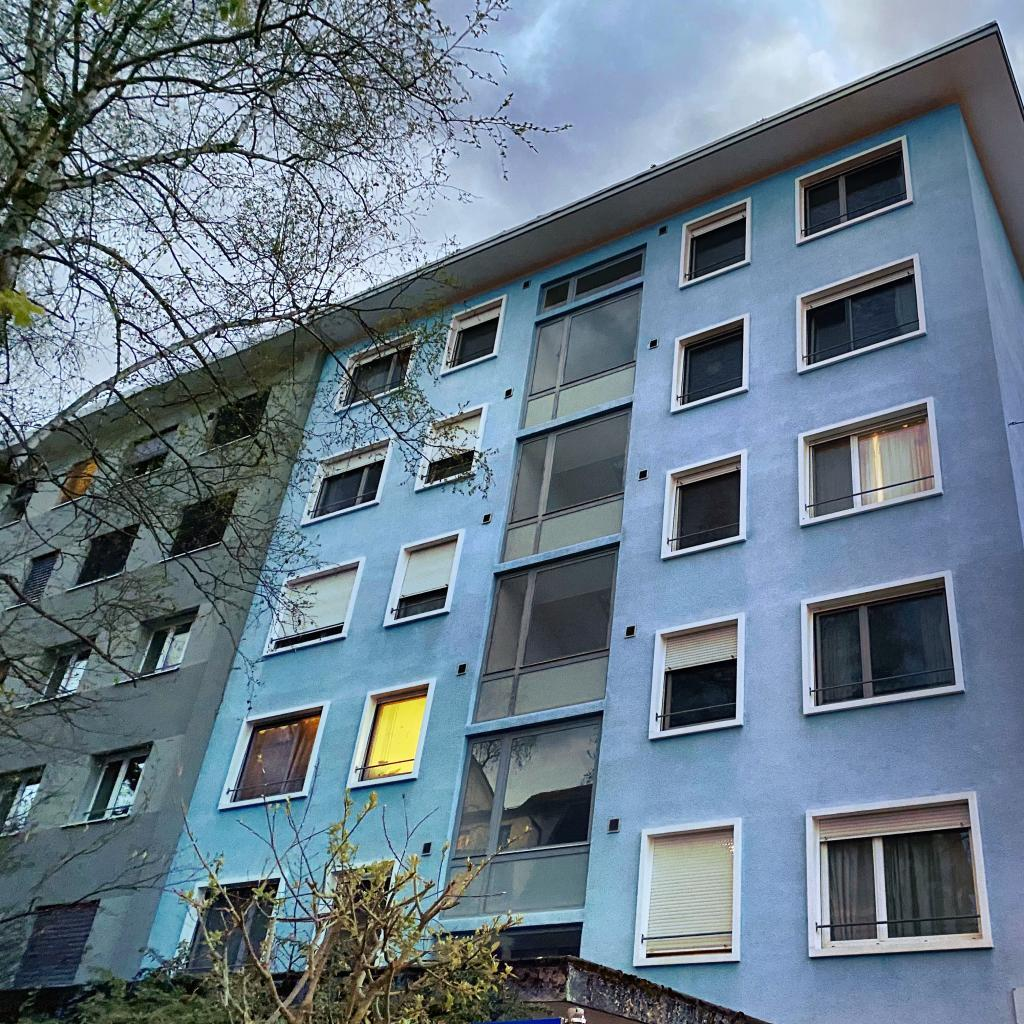balcony-fence: (808, 665, 957, 708), (804, 472, 937, 520), (815, 913, 984, 949), (802, 317, 921, 368), (800, 189, 908, 241), (641, 929, 734, 960), (655, 701, 738, 732), (667, 520, 740, 554), (269, 621, 346, 652), (306, 489, 379, 521), (225, 776, 307, 803), (676, 374, 743, 407), (338, 377, 406, 408), (683, 251, 746, 284), (389, 594, 448, 623), (353, 758, 416, 783), (445, 343, 495, 370), (421, 460, 474, 485), (81, 804, 132, 821)
facade: (0, 19, 1024, 1024)
non-building-infrastructure: (0, 953, 775, 1024)
window: (440, 716, 602, 918), (472, 548, 618, 722), (817, 801, 983, 948), (499, 408, 631, 562), (811, 584, 955, 706), (522, 287, 642, 430), (808, 409, 936, 518), (645, 826, 734, 959), (804, 265, 920, 366), (803, 147, 906, 237), (179, 883, 279, 973), (228, 711, 322, 803), (660, 623, 737, 731), (271, 565, 359, 651), (12, 901, 99, 987), (540, 248, 646, 313), (357, 688, 428, 782), (325, 870, 392, 967), (308, 443, 389, 520), (671, 463, 740, 551), (393, 537, 458, 621), (82, 746, 153, 821), (680, 325, 743, 406), (344, 337, 415, 406), (168, 492, 238, 558), (687, 209, 745, 282), (424, 412, 482, 484), (75, 524, 139, 585), (208, 389, 270, 449), (136, 616, 197, 676), (449, 304, 501, 368), (117, 426, 177, 481), (38, 643, 94, 701), (0, 769, 44, 834), (15, 552, 59, 605), (59, 457, 98, 504), (1, 478, 34, 526)
